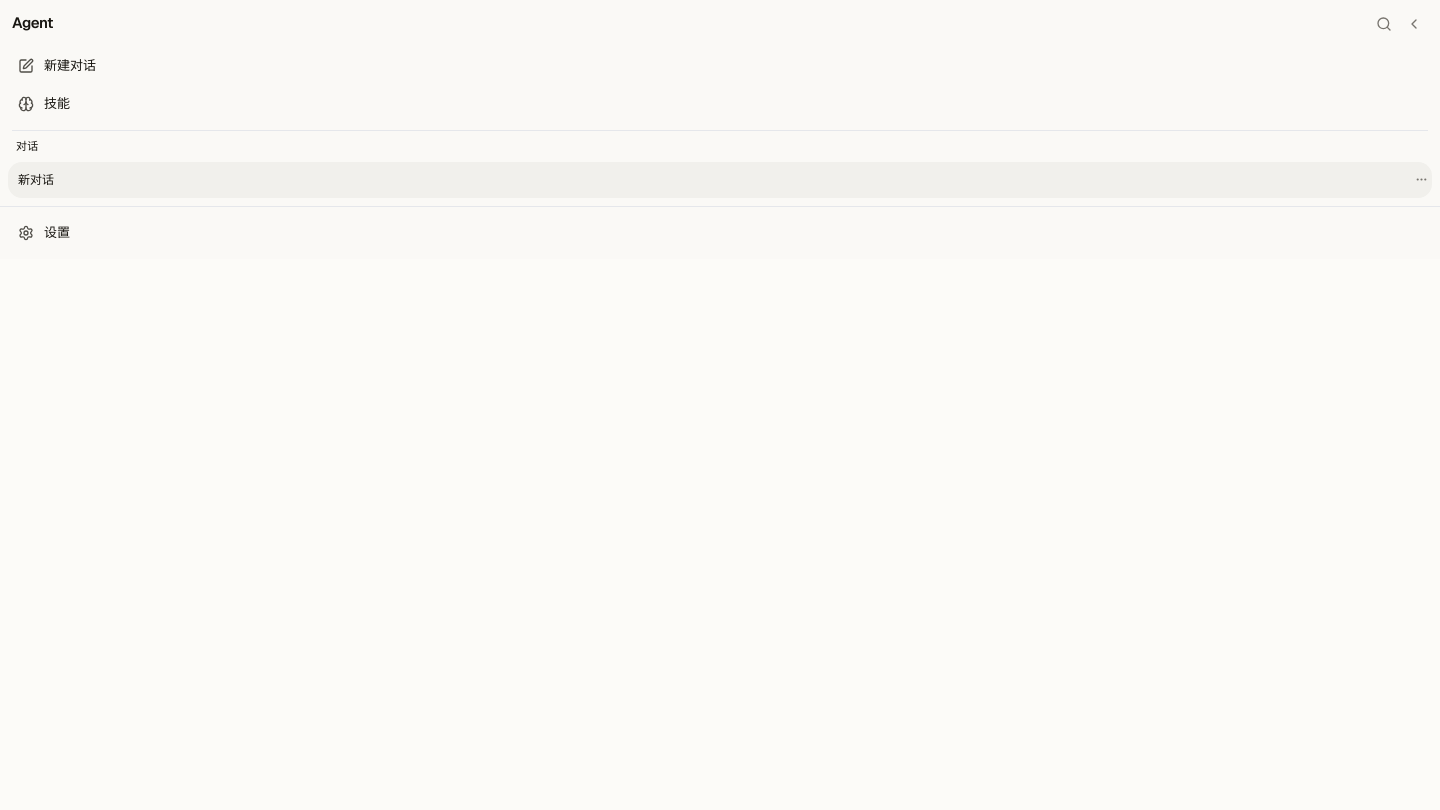
Test: SessionSidebar › cancels inline rename with escape
Click the button named "Session menu". click: (1422,180)
box: [1411,169,1432,190]
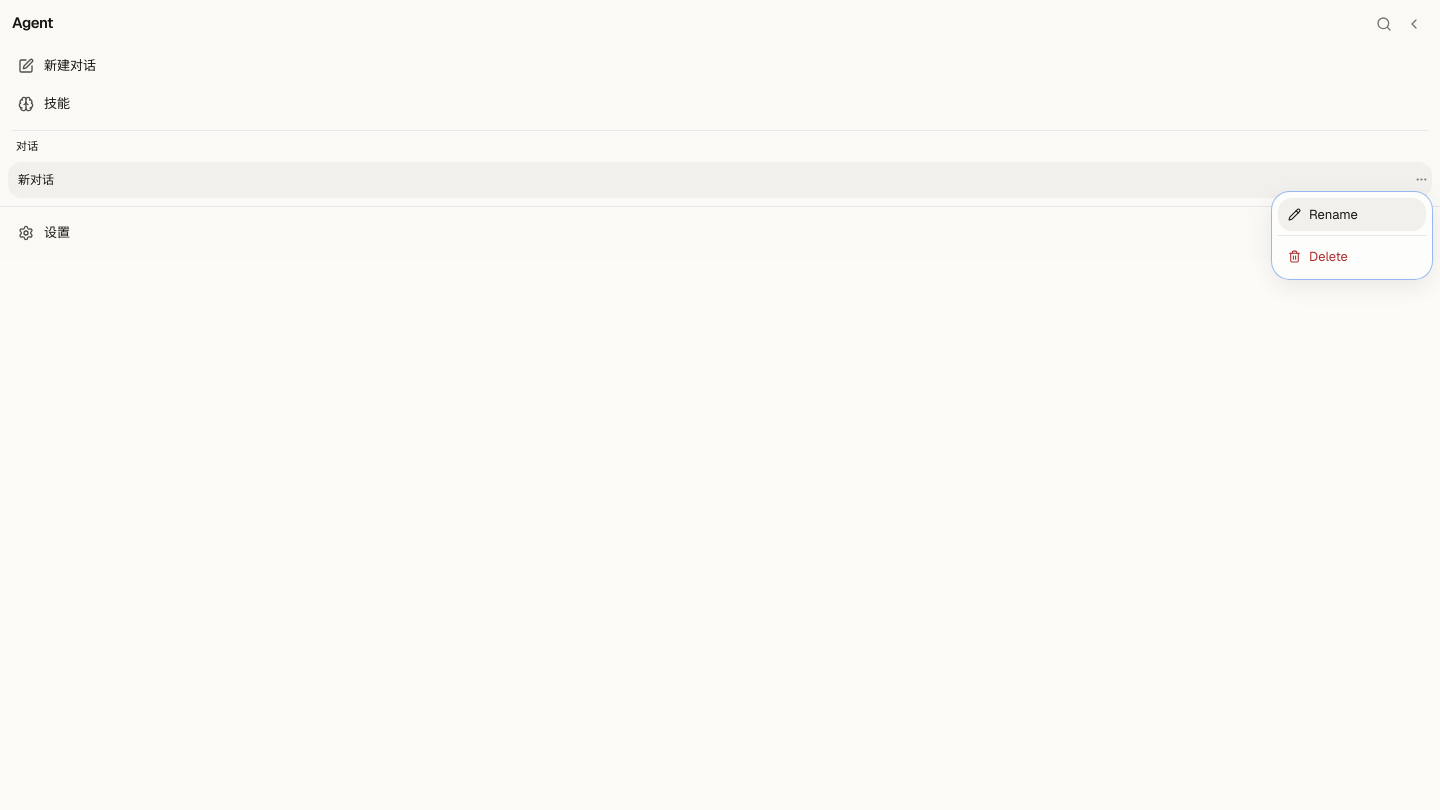
Click the button "Rename". click: (1352,215)
box: [1278,198,1426,231]
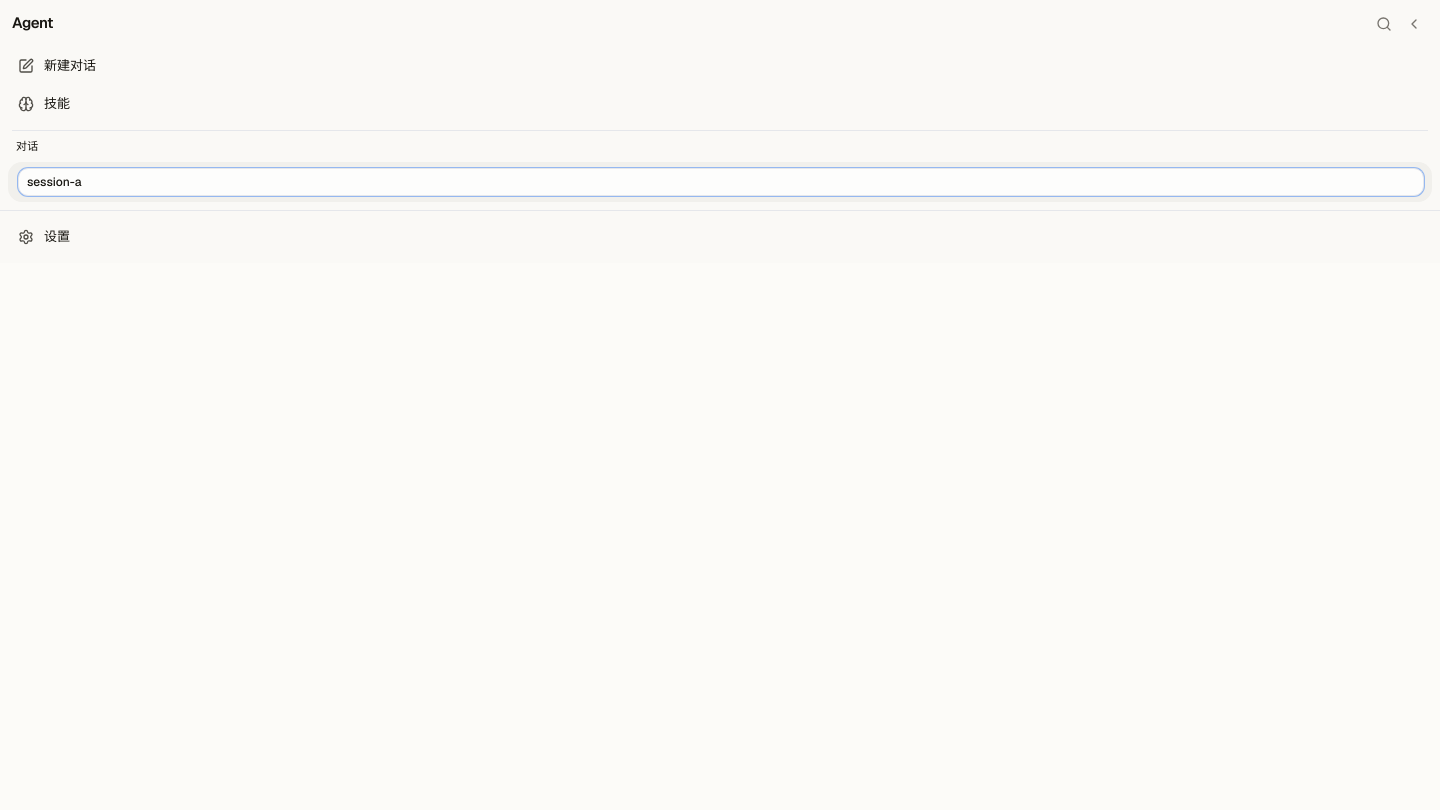
Replace the text in the field with "Discarded name". click: (721,182)
box: [18,168,1424,196]
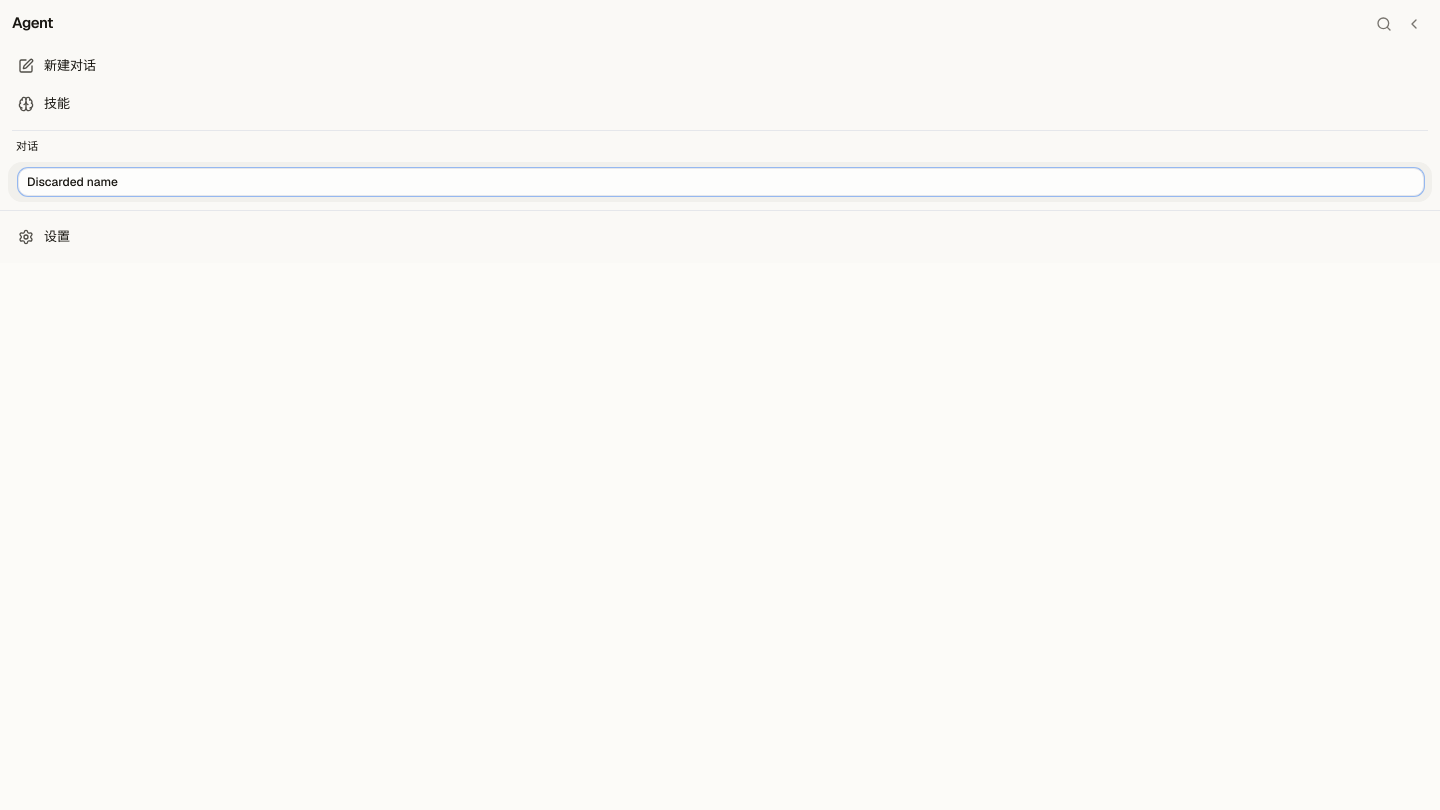
Press Escape
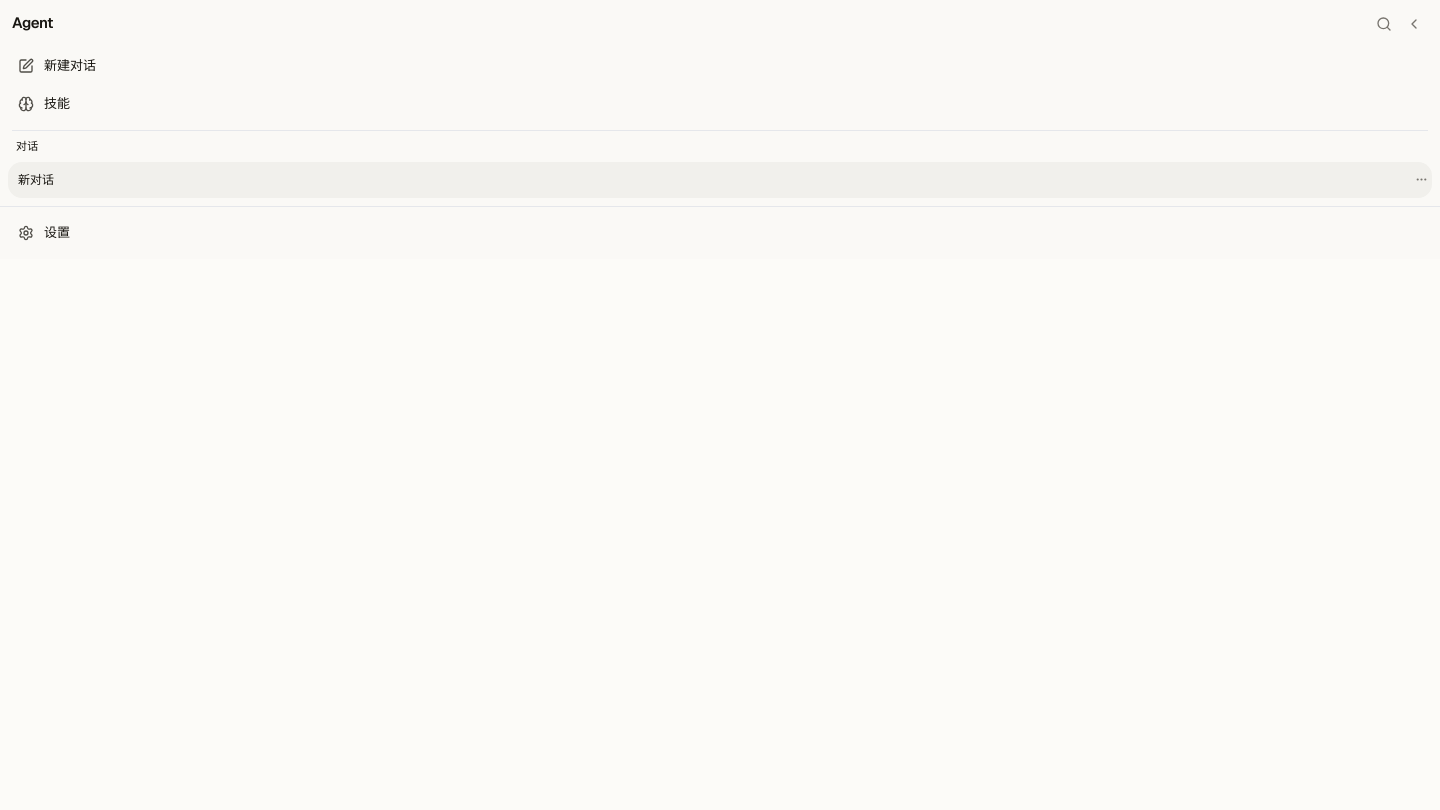
Expected: the field showing "Discarded name" is not shown
Expected: the text "新对话" is shown, [18,172,54,188]
